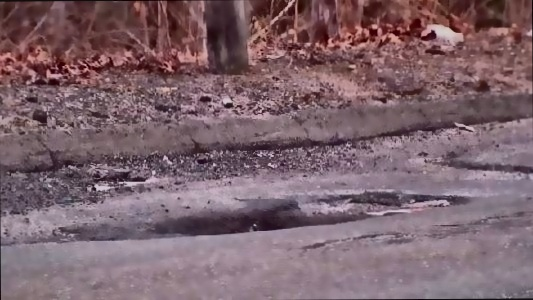pothole: (154, 187, 465, 239)
